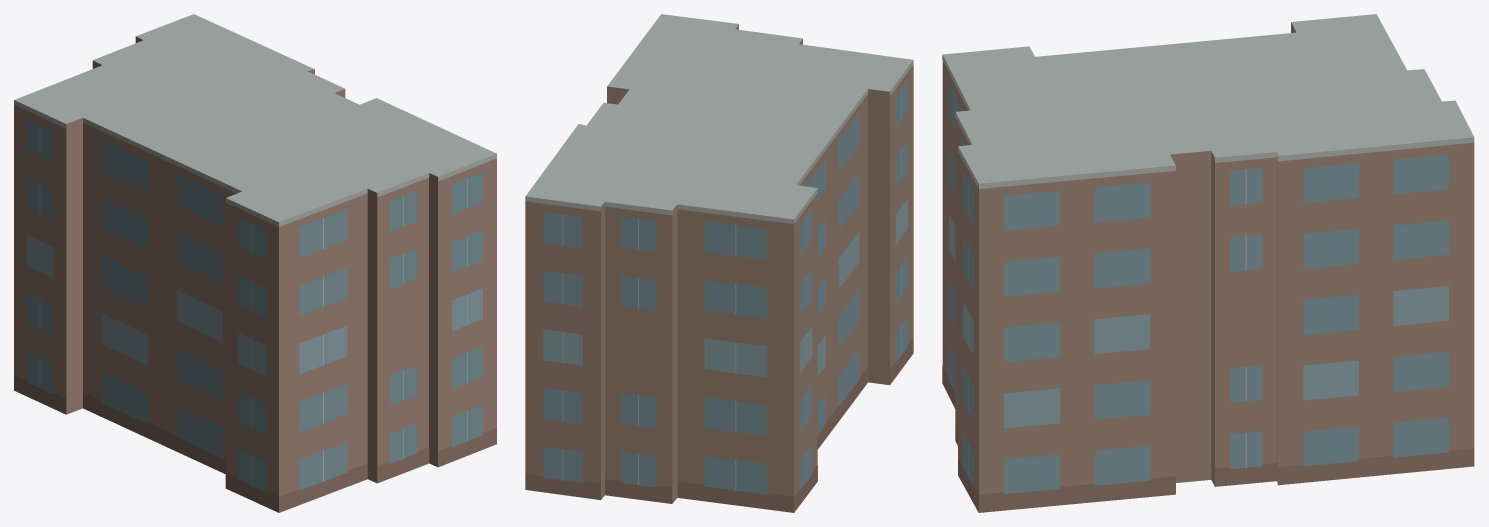
The model's file is survey-upis-32699157.glb.
3 views of the same model, side by side, from view 1: azimuth 30°, elevation 25°; view 2: azimuth 150°, elevation 25°; view 3: azimuth 270°, elevation 25° (orthographic). The views are drawn at different scales.
Parts seen in each view (by area): view 1: survey-upis-32699157.tmp; view 2: survey-upis-32699157.tmp; view 3: survey-upis-32699157.tmp.
Part boxes in pixels (x1=…): survey-upis-32699157.tmp: x1=14, y1=14, x2=496, y2=512; survey-upis-32699157.tmp: x1=525, y1=14, x2=913, y2=512; survey-upis-32699157.tmp: x1=942, y1=14, x2=1474, y2=512.
Bounding box in the file's own units: 16.55 × 14.95 × 21.9.
